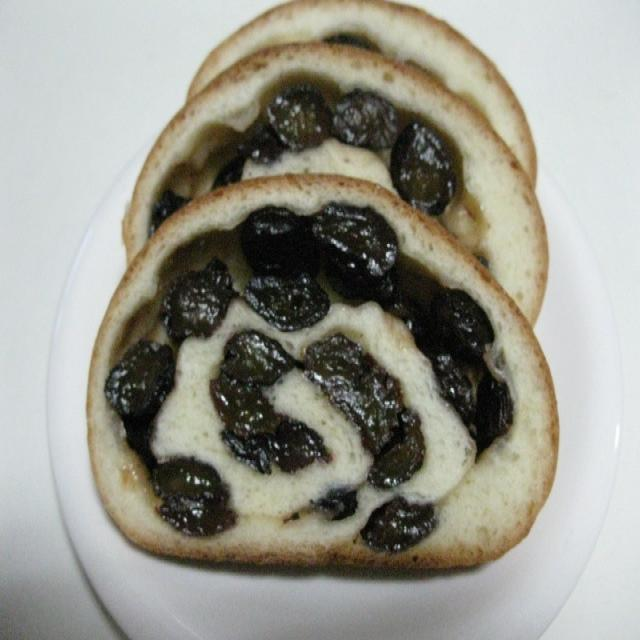面包点心: (60, 0, 572, 592)
